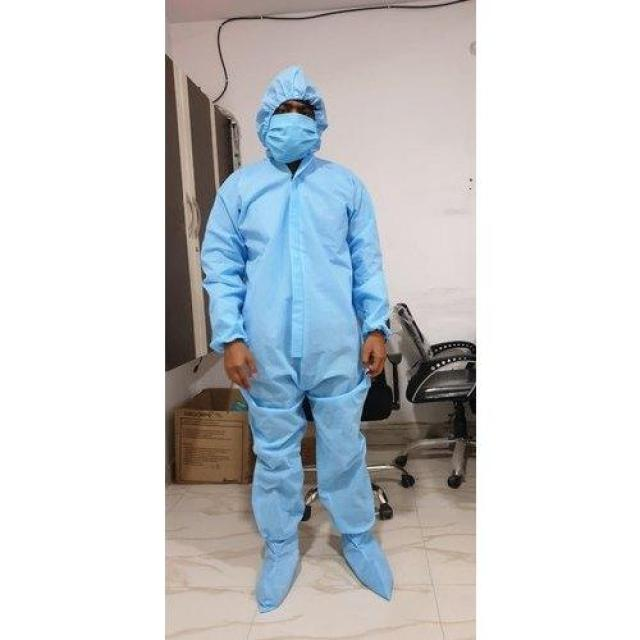Coverall: (199, 62, 400, 622)
Mask: (262, 112, 319, 162)
